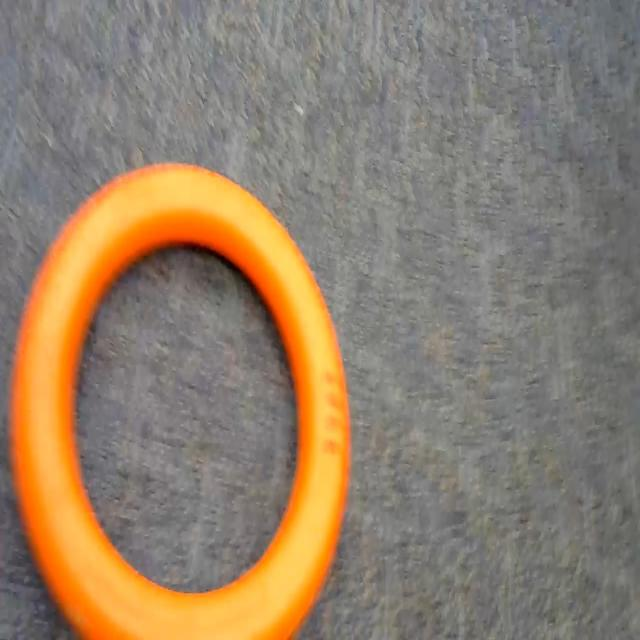note: (7, 134, 361, 640)
